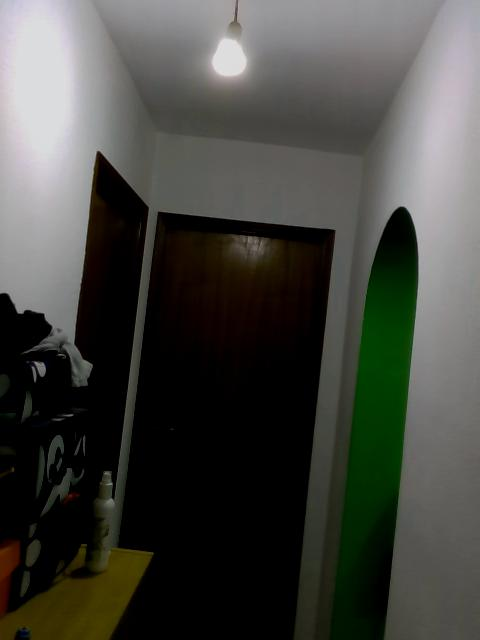closed_door: (117, 211, 331, 638)
